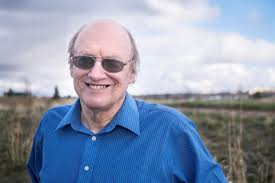person: (68, 18, 137, 111)
